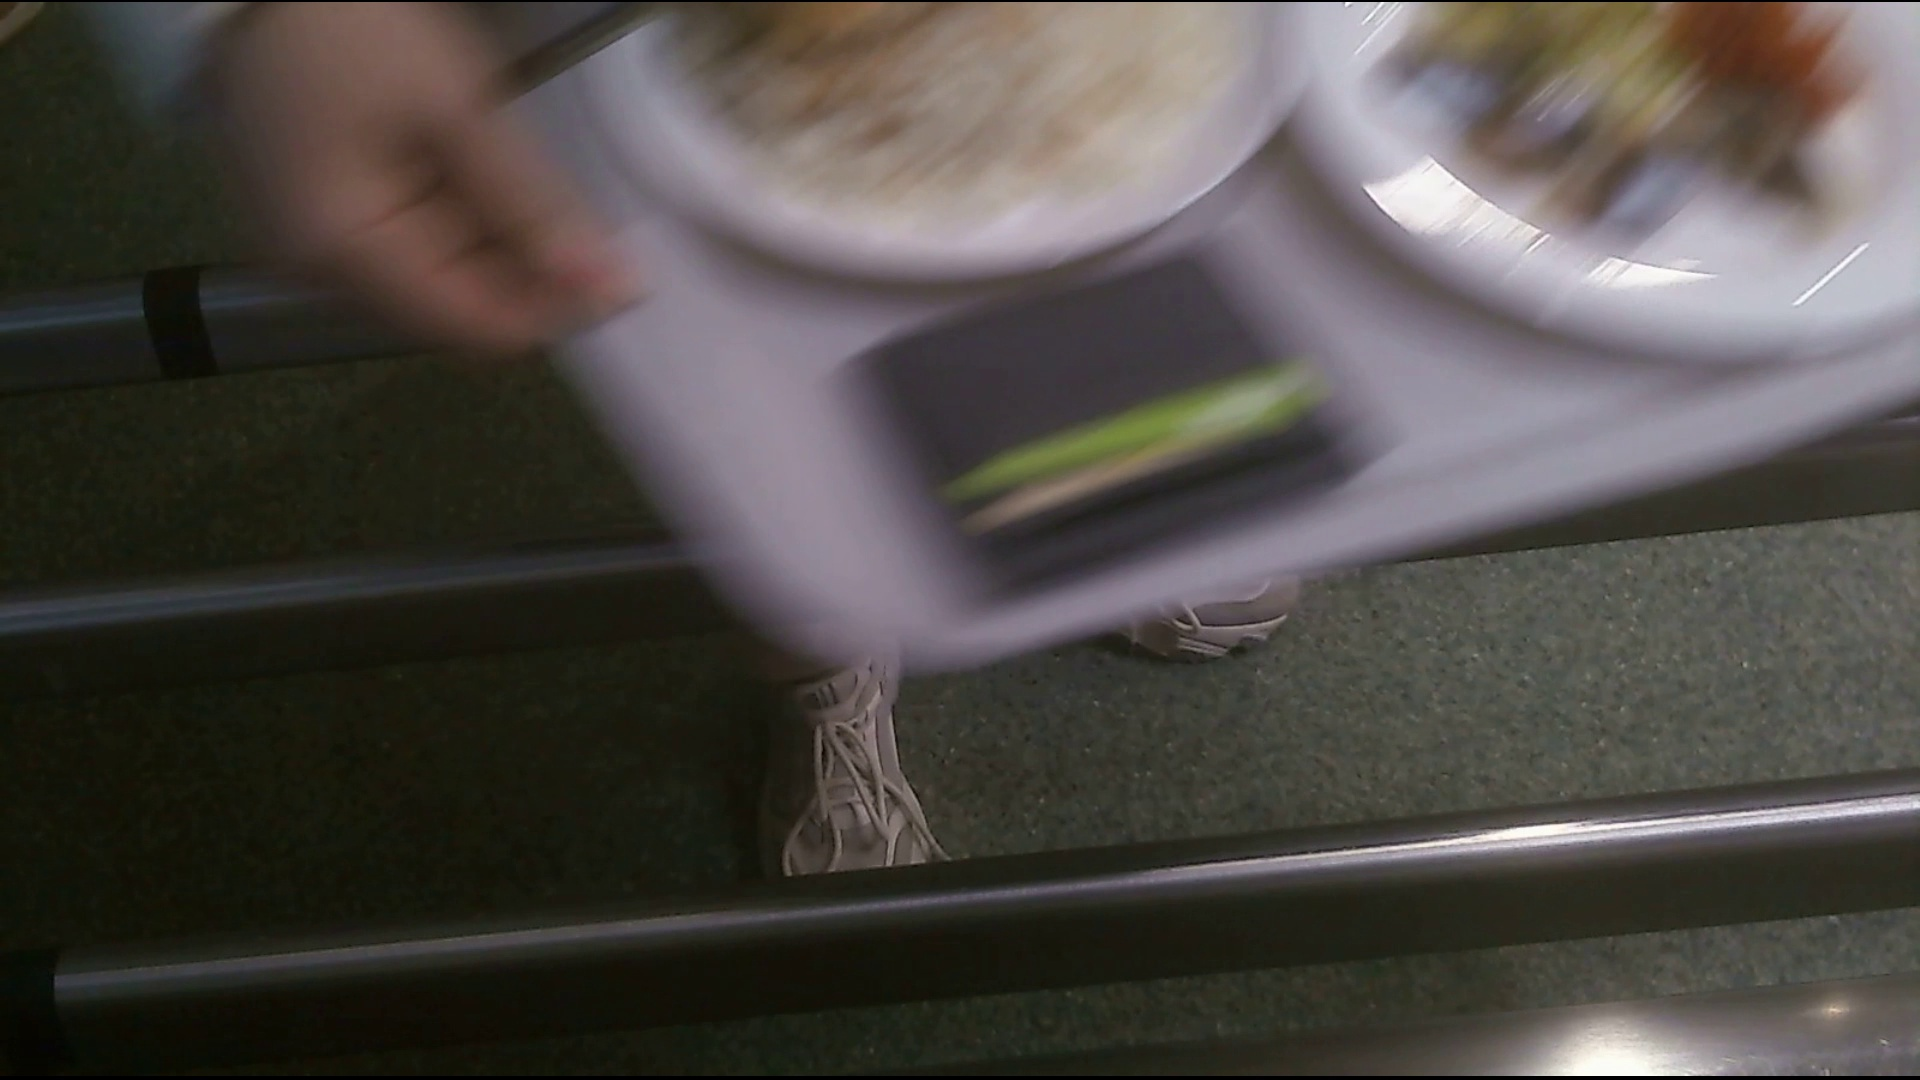other: (837, 261, 1400, 560)
plate: (1288, 11, 1920, 336), (585, 1, 1267, 245)
